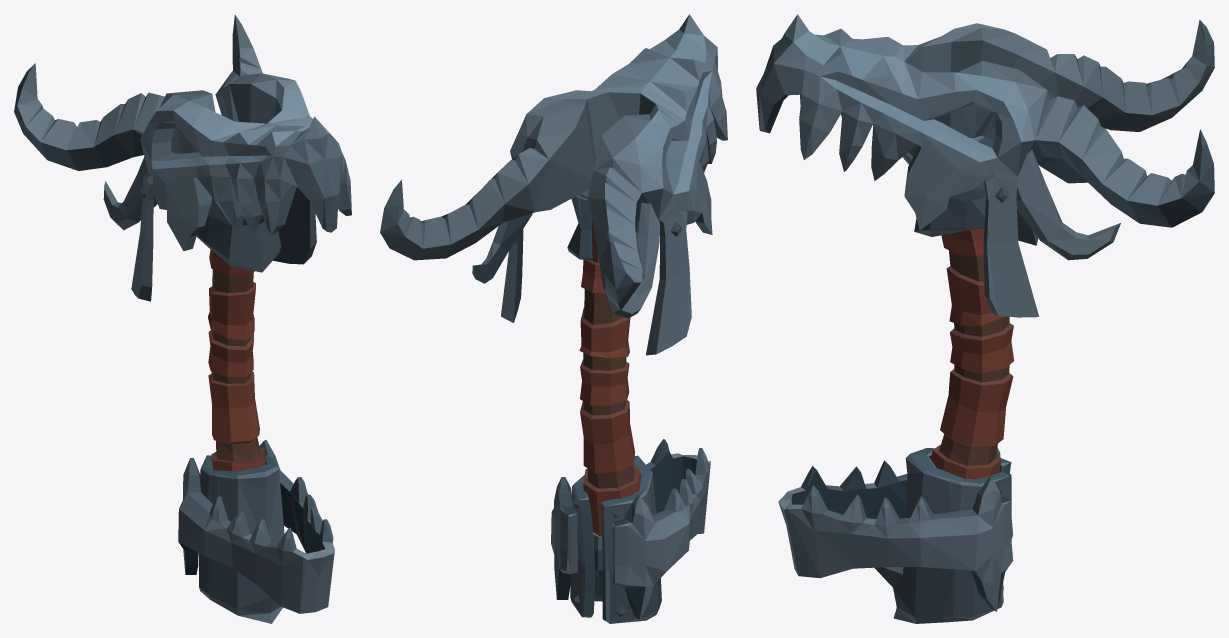
The model's file is smallBowDragonHandle.glb.
3 views of the same model, side by side, from view 1: azimuth 30°, elevation 25°; view 2: azimuth 150°, elevation 25°; view 3: azimuth 270°, elevation 25° (orthographic). The views are drawn at different scales.
Parts seen in each view (by area): view 1: smallBowDragonHandle; view 2: smallBowDragonHandle; view 3: smallBowDragonHandle.
Part boxes in pixels (left/top/right/bottom): smallBowDragonHandle: left=14, top=14, right=351, bottom=623; smallBowDragonHandle: left=380, top=14, right=727, bottom=623; smallBowDragonHandle: left=756, top=14, right=1214, bottom=623.
Bounding box in the file's own units: 0.1851 × 0.4038 × 0.2777.
